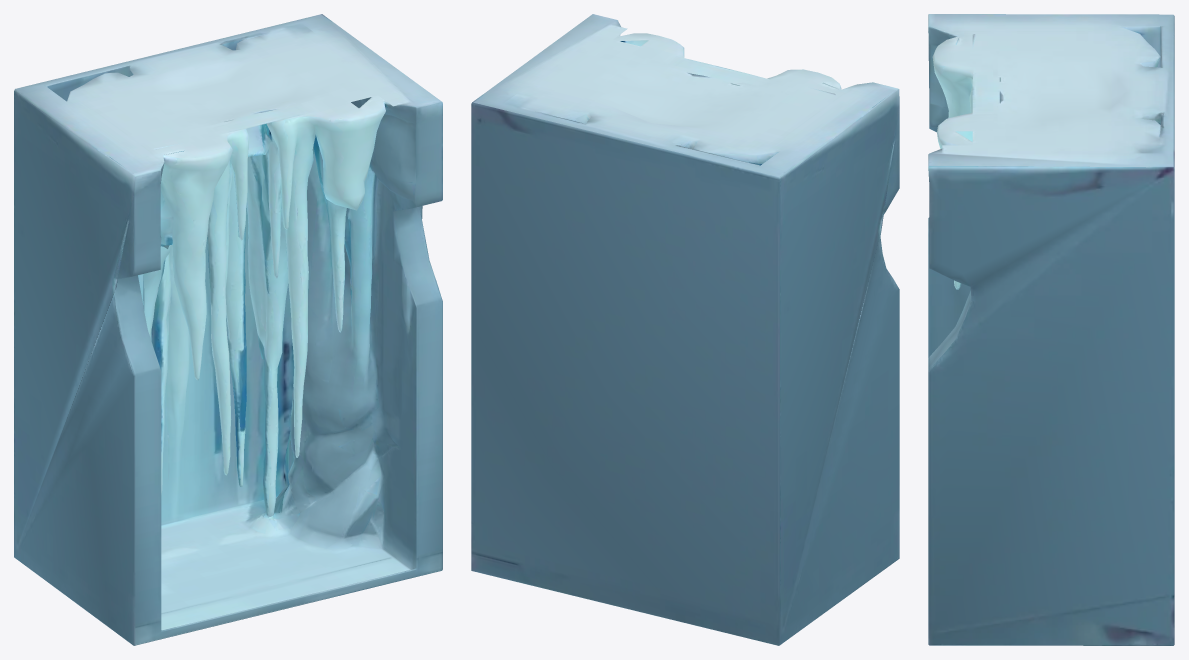
The model's file is frozen-falls.opt.glb.
The picture shows the model from 3 angles, left to right: view 1: azimuth 30°, elevation 25°; view 2: azimuth 150°, elevation 25°; view 3: azimuth 270°, elevation 25°; orthographic projection. The views are drawn at different scales.
Size of the model in its own units: 1.31 by 1.91 by 0.8884.
1 material, 1 textured.
